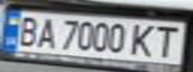0: (106, 20, 130, 55), (90, 19, 112, 53), (75, 19, 96, 52)
7: (57, 17, 78, 52)
A: (33, 16, 60, 50)
B: (12, 14, 42, 47)
K: (127, 20, 160, 57)
T: (148, 22, 184, 58)
